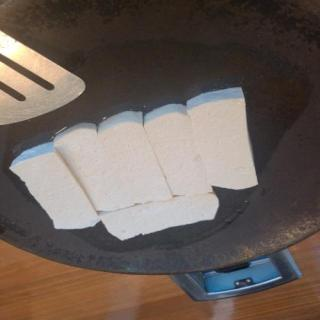Tahu: (10, 87, 258, 241)
